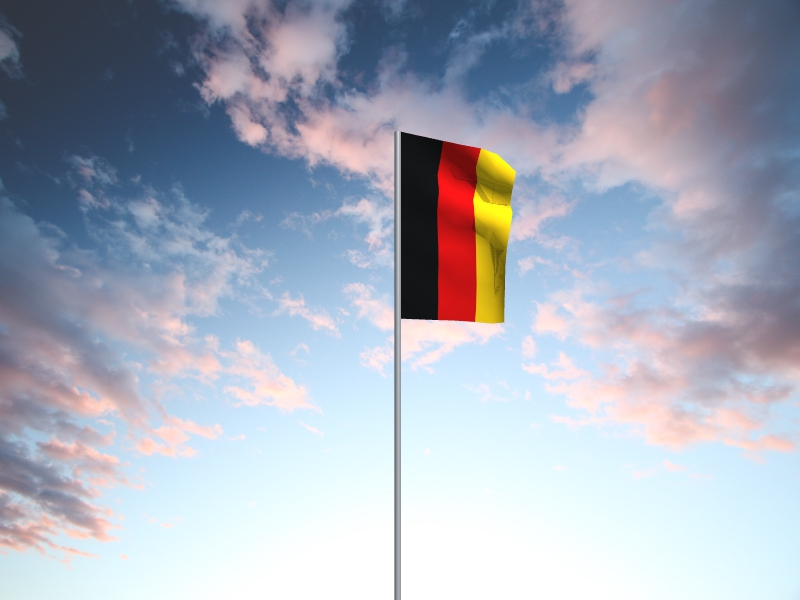de: (402, 132, 518, 325)
